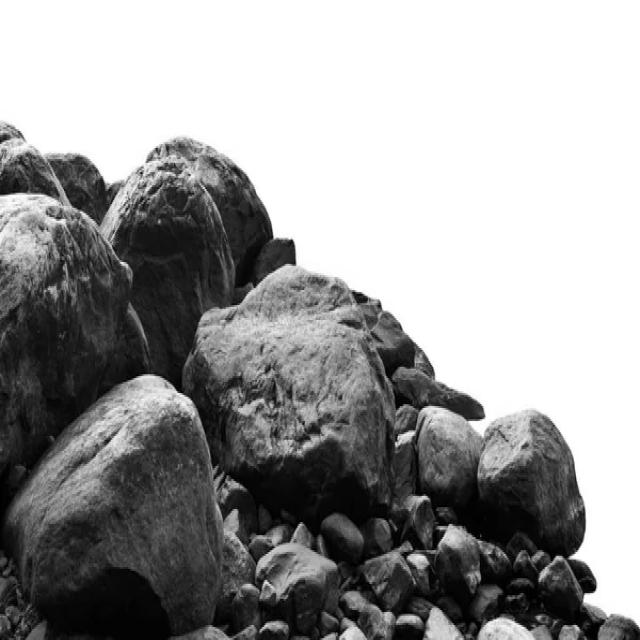Stone: (5, 375, 233, 640), (183, 256, 391, 492), (2, 190, 146, 487), (106, 129, 290, 358), (476, 409, 594, 558), (0, 114, 114, 211), (254, 538, 345, 624), (416, 398, 479, 498), (396, 362, 486, 429), (432, 521, 481, 604), (368, 544, 418, 609), (326, 500, 365, 568), (542, 557, 582, 606)
